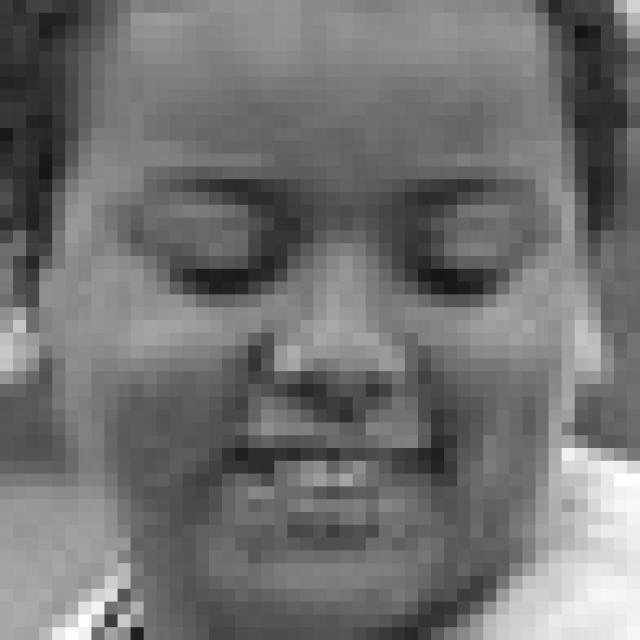real: (36, 0, 599, 632), (133, 162, 553, 322)
